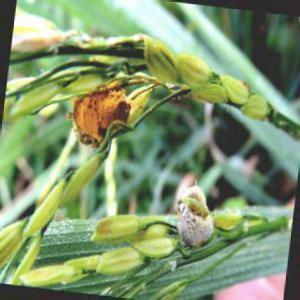Leaf_Scald: (72, 76, 135, 146)
